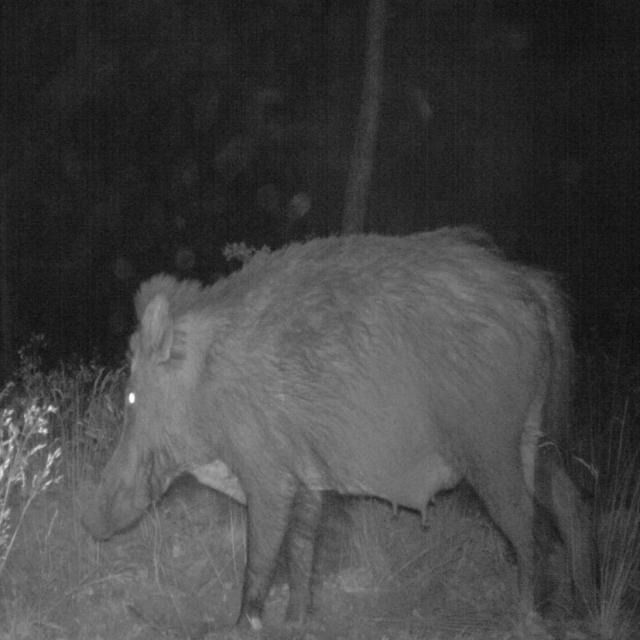pig: (88, 227, 613, 635)
